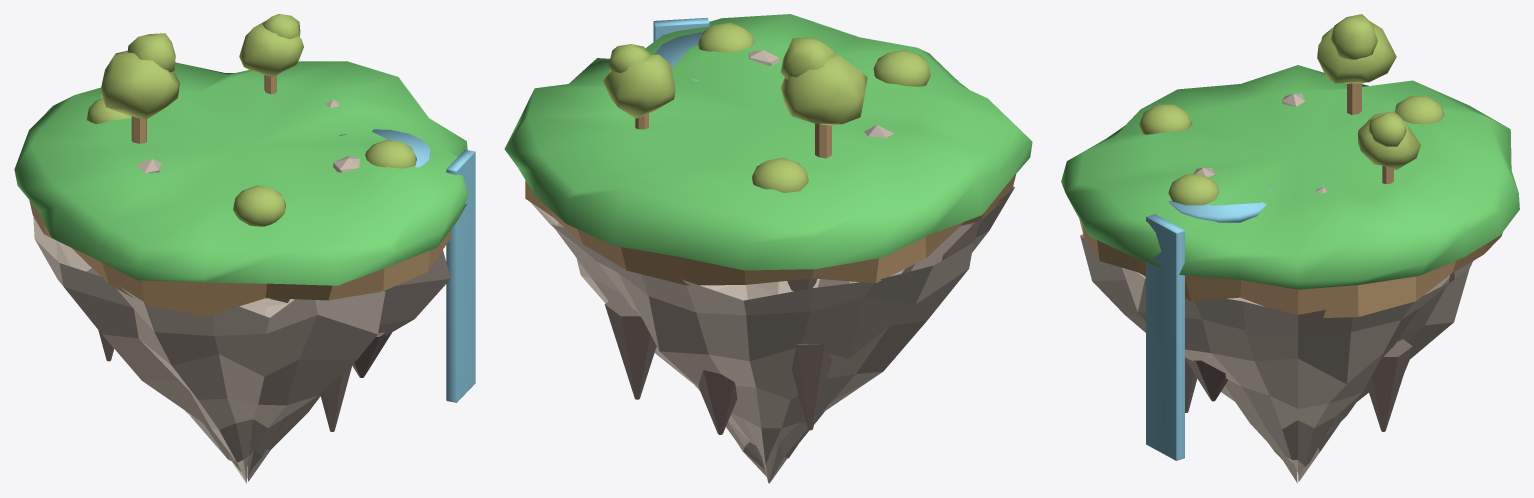
Rendered from SkyIsland.fbx.
3 renders of one model, left to right at view 1: azimuth 30°, elevation 25°; view 2: azimuth 150°, elevation 25°; view 3: azimuth 270°, elevation 25°, orthographic. The views are drawn at different scales.
Visible parts, largest first — view 1: Leaves, Rock, Leaves2, Trunk, Water, RockDark; view 2: Leaves, Rock, Leaves2, Trunk, RockDark, Water; view 3: Leaves, Rock, Leaves2, Water, Trunk, RockDark.
Boxes of the visible parts, x1=… form: Leaves: x1=14, y1=61, x2=468, y2=285; Rock: x1=33, y1=99, x2=450, y2=483; Leaves2: x1=86, y1=14, x2=416, y2=226; Trunk: x1=29, y1=75, x2=450, y2=316; Water: x1=339, y1=129, x2=475, y2=402; RockDark: x1=86, y1=268, x2=391, y2=431; Leaves: x1=504, y1=14, x2=1032, y2=270; Rock: x1=530, y1=50, x2=1014, y2=483; Leaves2: x1=603, y1=22, x2=930, y2=192; Trunk: x1=525, y1=113, x2=1016, y2=285; RockDark: x1=604, y1=278, x2=831, y2=434; Water: x1=653, y1=17, x2=709, y2=81; Leaves: x1=1061, y1=65, x2=1519, y2=289; Rock: x1=1080, y1=93, x2=1472, y2=483; Leaves2: x1=1139, y1=14, x2=1444, y2=205; Water: x1=1146, y1=188, x2=1271, y2=460; Trunk: x1=1079, y1=83, x2=1502, y2=317; RockDark: x1=1185, y1=339, x2=1412, y2=431.
Size of the model in its own units: 19.81 by 21.35 by 20.44.
